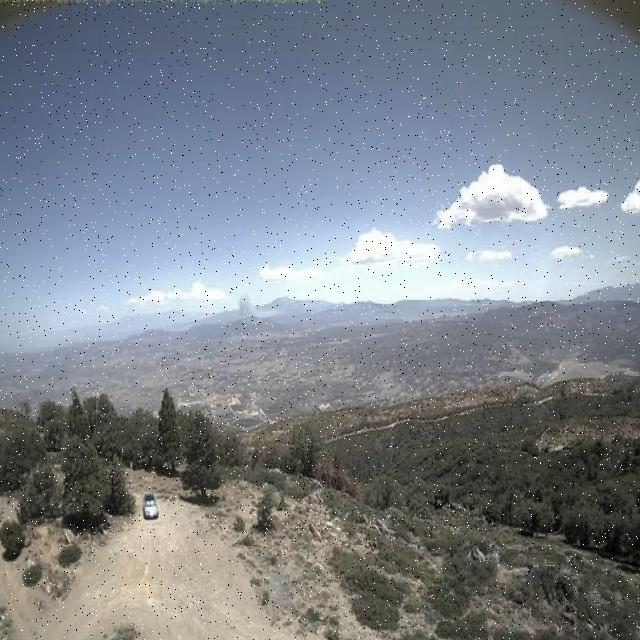smoke: (219, 284, 281, 324)
